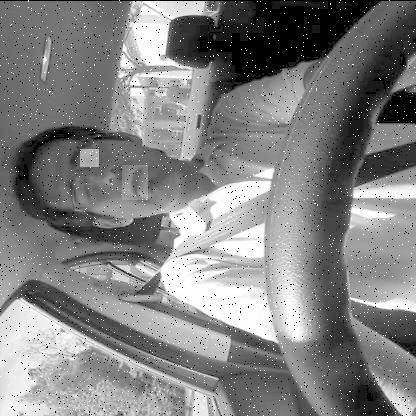seatbelt: (6, 95, 414, 306)
